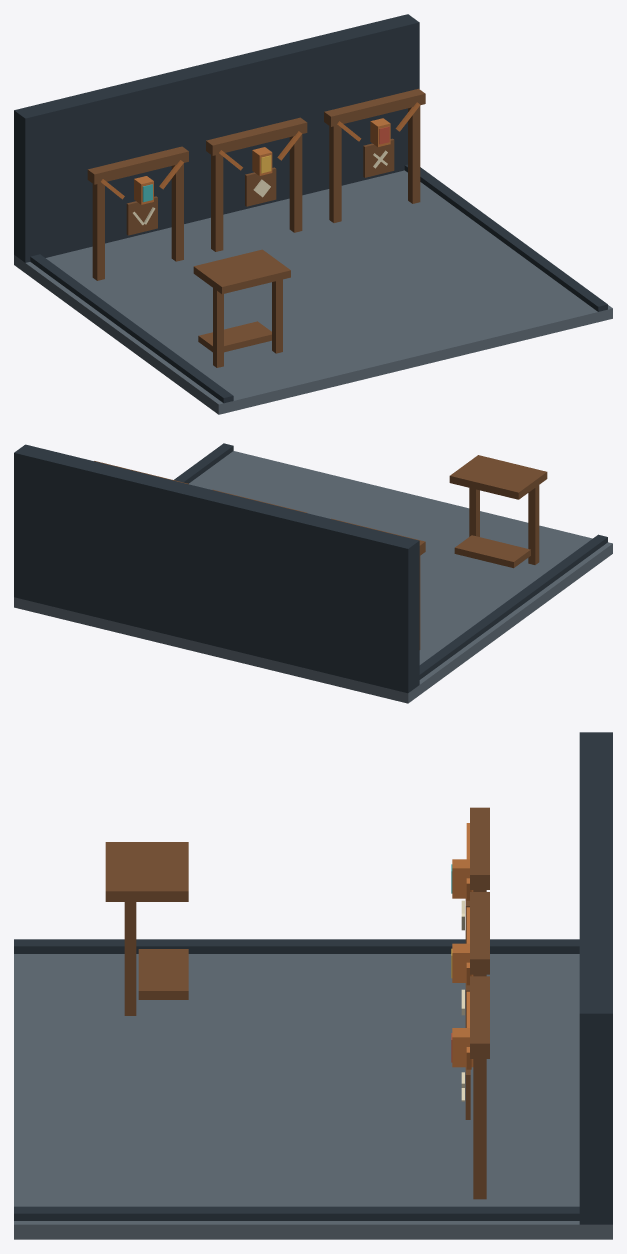
File: signal_shaft.glb
3 views of the same model, one above another, from view 1: azimuth 30°, elevation 25°; view 2: azimuth 150°, elevation 25°; view 3: azimuth 270°, elevation 25° (orthographic). The views are drawn at different scales.
Parts seen in each view (by area): view 1: signal_shaft; view 2: signal_shaft; view 3: signal_shaft.
Part boxes in pixels (x1,y1,x2,y2): signal_shaft: (14, 14, 612, 414); signal_shaft: (14, 443, 612, 703); signal_shaft: (14, 732, 612, 1239).
Size of the model in its own units: 40 by 15 by 36.
